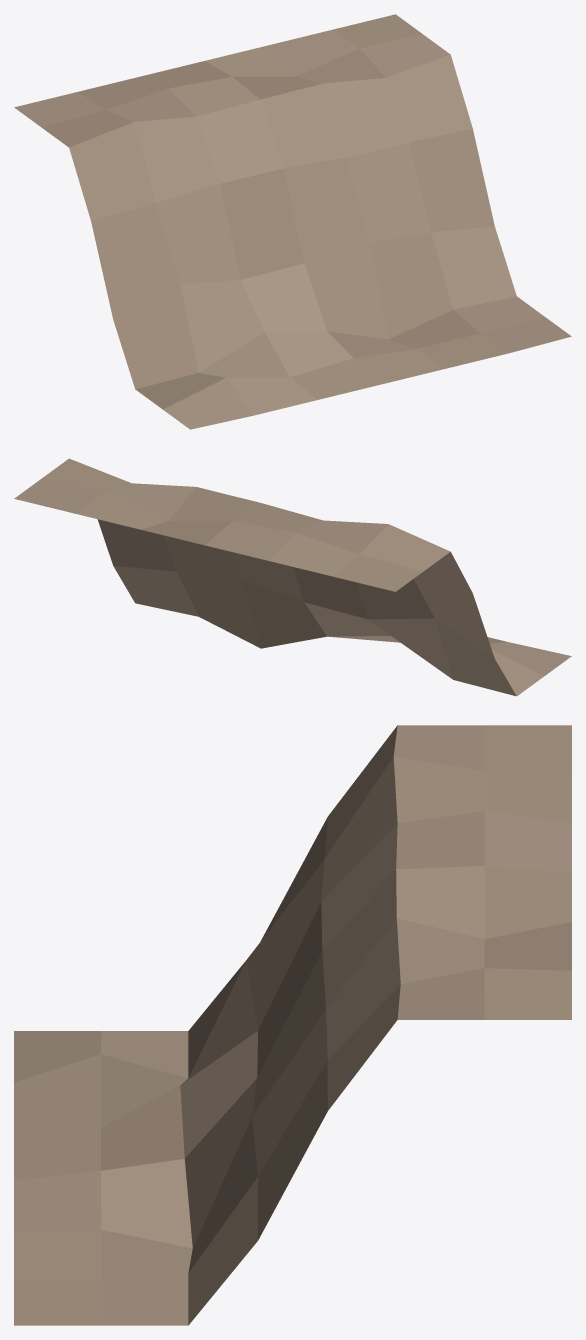
Rendered from Groborchik_RiverBank_3m_1.fbx.
The picture shows the model from 3 angles, top to bottom: view 1: azimuth 30°, elevation 25°; view 2: azimuth 150°, elevation 25°; view 3: azimuth 270°, elevation 25°; orthographic projection. The views are drawn at different scales.
Parts seen in each view (by area): view 1: 3m_1; view 2: 3m_1; view 3: 3m_1.
Boxes of the visible parts, x1,y1,x2,y2 form: 3m_1: (14, 14, 571, 429); 3m_1: (14, 458, 571, 696); 3m_1: (14, 725, 571, 1325).
Size of the model in its own units: 1000 by 545 by 800.
